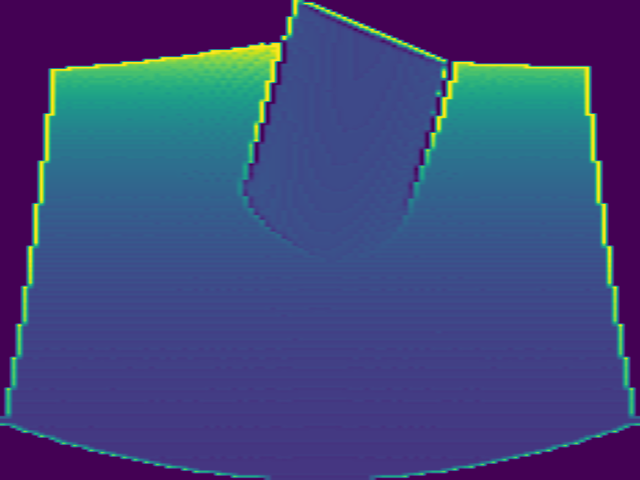cylinder: (239, 2, 455, 256)
